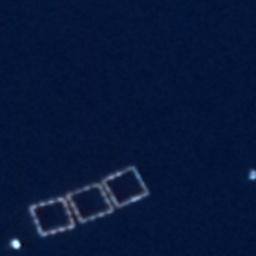square_solid: (98, 162, 153, 212), (63, 180, 119, 227), (25, 195, 81, 240)
